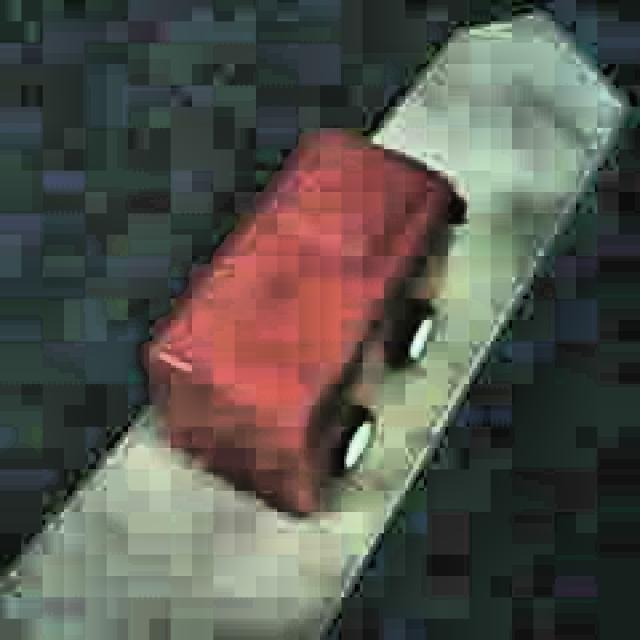bus: (147, 125, 468, 516)
